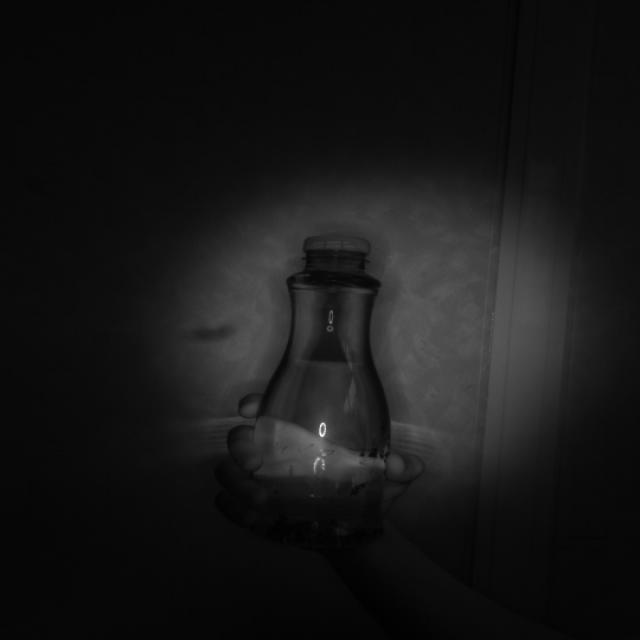Not Good: (304, 231, 370, 265)
